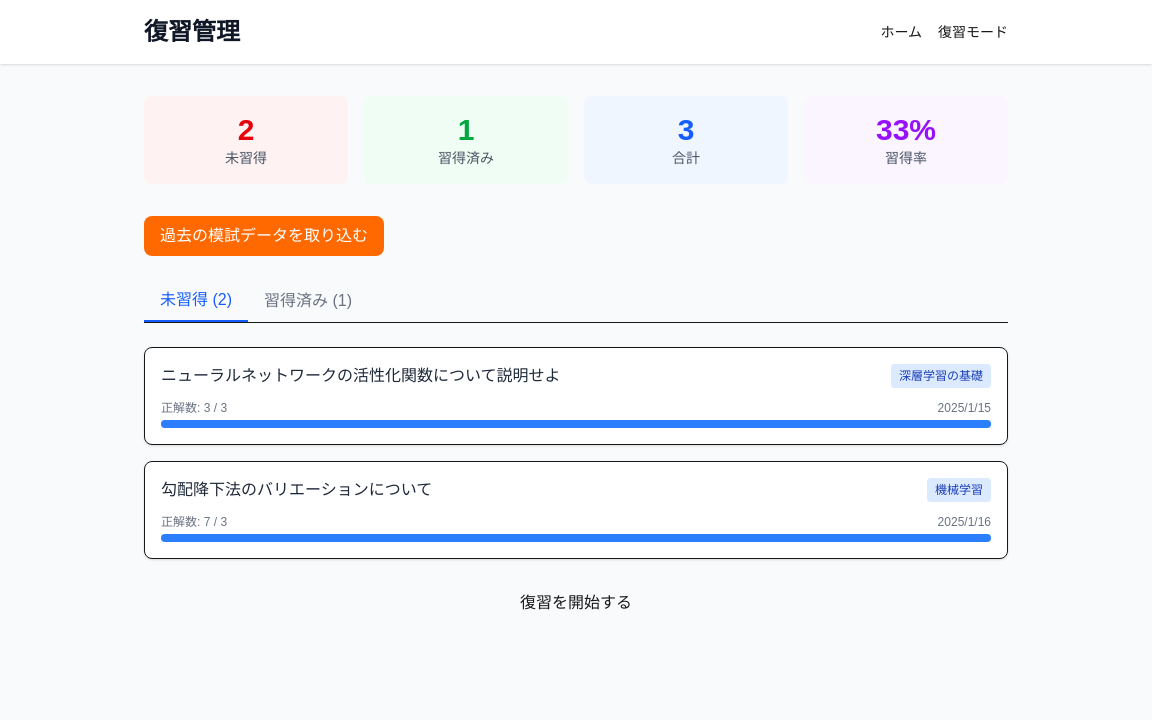
Test: ReviewDashboardPage › 習得済みタブに切り替えできる
Expected: the text "ニューラルネットワークの活性化関数について説明せよ" is shown, [161,367,560,384]
// 習得済みタブをクリック（タブにはカウントが含まれる）
Click the button "習得済み (1)".
click(308, 301)  # box [248,280,368,322]
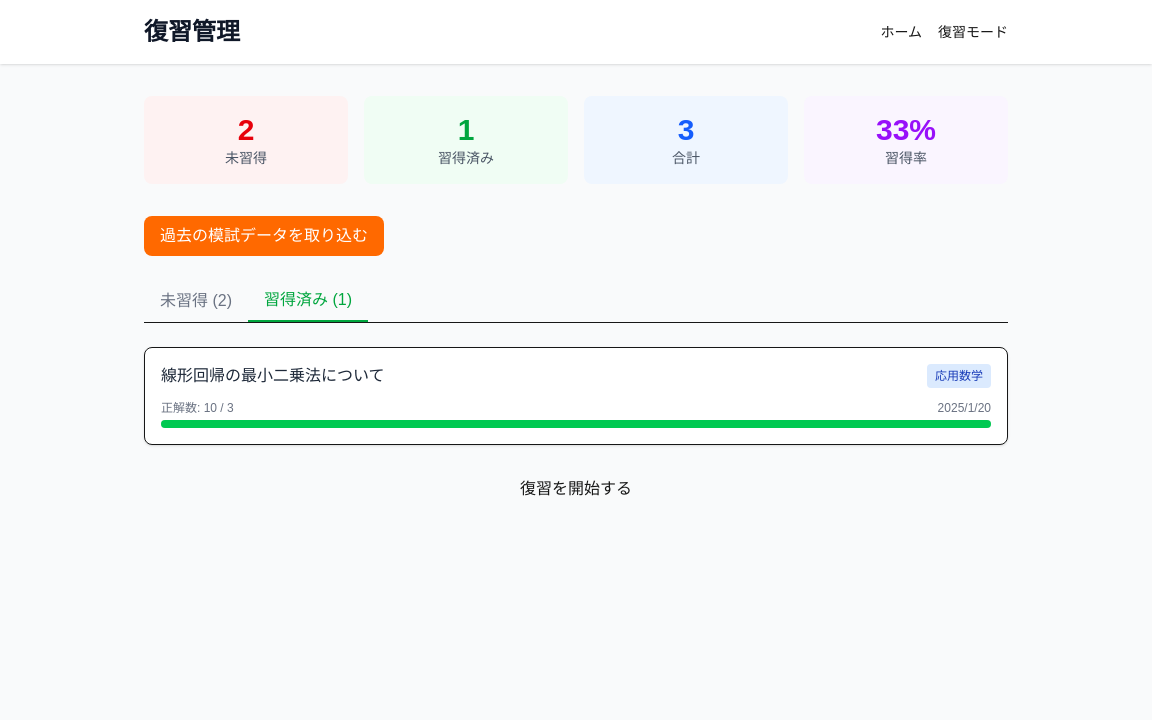
Now the text "線形回帰の最小二乗法について" is shown, box [161,367,384,384]
